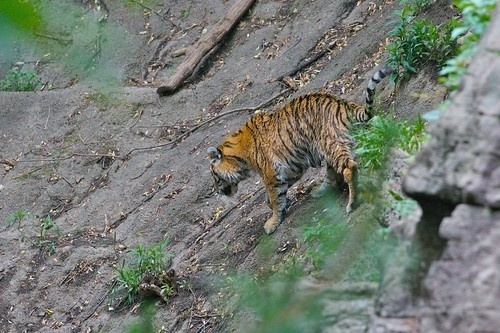tigre: (207, 73, 393, 237)
